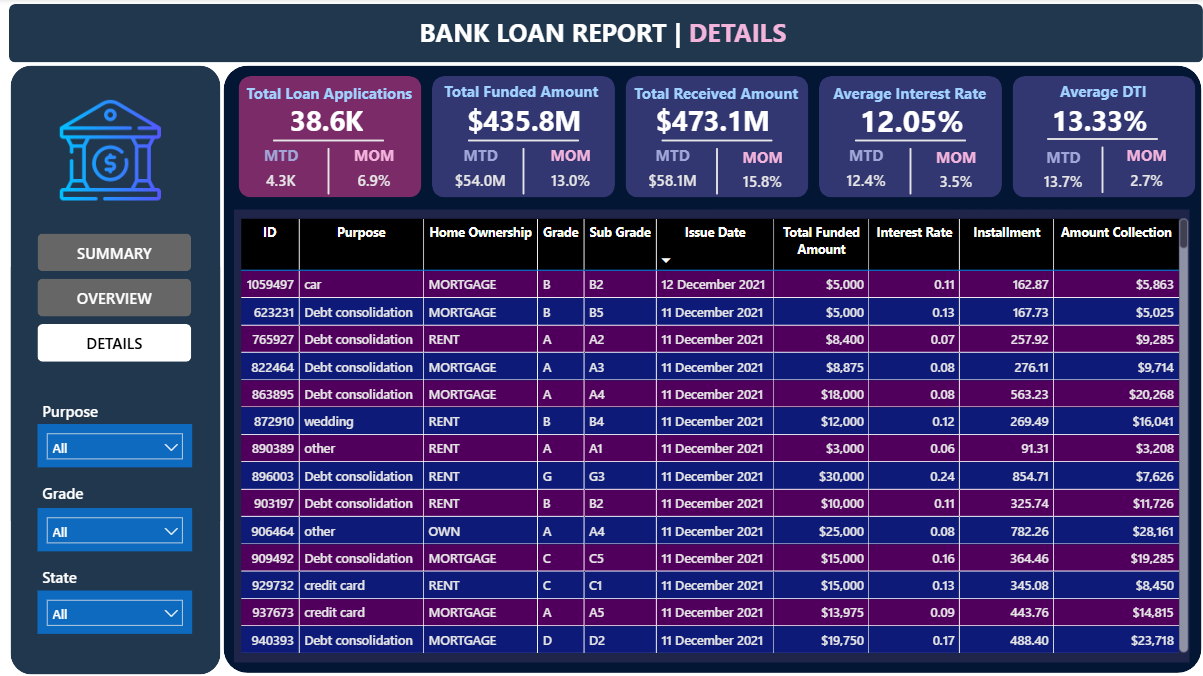

The dashboard page shown, as its layout file describes it:
{"tool":"powerbi","page":{"name":"DETAILS","canvas":[1280,720],"ordinal":2},"visuals":[{"type":"shape","box":[1110.2,0,117.7,299],"z":0,"group":"g6"},{"type":"shape","box":[289.5,1.6,117.7,299],"z":0,"group":"g2"},{"type":"shape","box":[496.3,1.6,117.7,299],"z":0,"group":"g3"},{"type":"shape","box":[701.5,1.6,117.7,299],"z":0,"group":"g4"},{"type":"shape","box":[906.6,1.6,117.7,299],"z":0,"group":"g5"},{"type":"shape","box":[237,71.6,1037.1,644.2],"z":0},{"type":"shape","box":[11.1,71.6,222.7,645.8],"z":1000},{"type":"shape","box":[1110.2,157.5,117.7,49.3],"z":1000,"group":"g6"},{"type":"shape","box":[289.5,159.1,117.7,49.3],"z":1000,"group":"g2"},{"type":"shape","box":[496.3,159.1,117.7,49.3],"z":1000,"group":"g3"},{"type":"shape","box":[701.5,159.1,117.7,49.3],"z":1000,"group":"g4"},{"type":"shape","box":[906.6,159.1,117.7,49.3],"z":1000,"group":"g5"},{"type":"shape","box":[9.5,6.4,1266.1,62],"z":2000},{"type":"textbox","box":[380.2,12.7,518.5,52.5],"z":3000},{"type":"shape","box":[252.9,82.7,194.1,128.8],"z":4000},{"type":"shape","box":[458.1,82.7,194,128.8],"z":5000},{"type":"shape","box":[663.3,82.7,194,128.8],"z":6000},{"type":"shape","box":[1073.7,82.7,194.1,128.8],"z":7000},{"type":"shape","box":[248.1,224.3,1013.2,480.4],"z":8000},{"type":"image","box":[56.5,96.7,122.5,128.8],"z":9000},{"type":"cardVisual","fields":{"Data":["public bank_loan_data.Total Recieved Amount"]},"box":[666.6,93.8,190.9,68.4],"z":10000},{"type":"cardVisual","fields":{"Data":["public bank_loan_data.Total Applications"]},"box":[278.8,93.8,147.9,68.4],"z":11000,"group":"g1"},{"type":"cardVisual","fields":{"Data":["public bank_loan_data.Total Funded Amount"]},"box":[460.2,93.8,192.5,68.4],"z":11000},{"type":"cardVisual","fields":{"Data":["DATE TABLE.Average DTI"]},"box":[1086.4,93.8,163.8,68.4],"z":12000},{"type":"textbox","box":[256.1,84.3,189.3,35],"z":13000},{"type":"textbox","box":[458.6,83.2,189.3,35],"z":14000},{"type":"textbox","box":[665.4,84.3,189.3,35],"z":15000},{"type":"textbox","box":[1074.7,83.2,189.3,35],"z":16000},{"type":"group","id":"g1","title":"Group 1","box":[269.3,93.8,162.1,112.9],"z":17000},{"type":"cardVisual","title":"MTD","fields":{"Data":["public bank_loan_data.MTD Loan Applications"]},"box":[269.3,155.8,58.9,50.9],"z":17000,"group":"g1"},{"type":"cardVisual","title":"MOM","fields":{"Data":["public bank_loan_data.MOM Loan Applications"]},"box":[363,155.2,68.4,50.9],"z":18000,"group":"g1"},{"type":"cardVisual","title":"MTD","fields":{"Data":["public bank_loan_data.MTD Total Amount Received"]},"box":[671.2,155.9,84.3,50.9],"z":18000},{"type":"cardVisual","title":"MTD","fields":{"Data":["public bank_loan_data.MTD FundedAmount"]},"box":[462.9,155.9,93.8,50.9],"z":19000},{"type":"cardVisual","title":"MTD","fields":{"Data":["public bank_loan_data.MTD Average DTI"]},"box":[1086.4,157.5,82.7,50.9],"z":20000},{"type":"shape","box":[868.5,82.7,194,128.8],"z":21000},{"type":"cardVisual","title":"MOM","fields":{"Data":["public bank_loan_data.MOM Total Received Amount"]},"box":[763.5,157.5,90.7,50.9],"z":22000},{"type":"cardVisual","title":"MOM","fields":{"Data":["public bank_loan_data.MOM Total Funded Amount"]},"box":[571,155.9,68.4,50.9],"z":23000},{"type":"cardVisual","title":"MOM","fields":{"Data":["public bank_loan_data.MOM Average DTI"]},"box":[1181.8,155.9,68.4,50.9],"z":24000},{"type":"cardVisual","fields":{"Data":["public bank_loan_data.Average Interest Rate"]},"box":[882.8,93.8,176.6,68.4],"z":25000},{"type":"textbox","box":[870.5,83.7,189.3,35],"z":26000},{"type":"cardVisual","title":"MTD","fields":{"Data":["public bank_loan_data.MTD Average Interest Rate"]},"box":[876.4,155.3,84.3,50.9],"z":27000},{"type":"cardVisual","title":"MOM","fields":{"Data":["public bank_loan_data.MOM Average Interest Rate"]},"box":[968.6,156.9,90.7,50.9],"z":28000},{"type":"group","id":"g2","title":"Group 2","box":[289.5,1.6,117.7,299],"z":29000},{"type":"group","id":"g3","title":"Group 2","box":[496.3,1.6,117.7,299],"z":30000},{"type":"group","id":"g4","title":"Group 2","box":[701.5,1.6,117.7,299],"z":31000},{"type":"group","id":"g5","title":"Group 2","box":[906.6,1.6,117.7,299],"z":32000},{"type":"group","id":"g6","title":"Group 2","box":[1110.2,0,117.7,299],"z":33000},{"type":"slicer","fields":{"Values":["public bank_loan_data.purpose"]},"box":[40.1,452.4,163.8,46.1],"z":34000},{"type":"textbox","box":[40.1,422.2,189.3,35],"z":35000},{"type":"slicer","fields":{"Values":["public bank_loan_data.grade"]},"box":[40.1,541.5,163.8,46.1],"z":36000},{"type":"slicer","fields":{"Values":["public bank_loan_data.address"]},"box":[40.5,628.2,163.8,46.1],"z":37000},{"type":"textbox","box":[40.5,598,189.3,35],"z":38000},{"type":"textbox","box":[39.8,509,189.3,35],"z":39000},{"type":"tableEx","fields":{"Values":["public bank_loan_data.id","public bank_loan_data.purpose","public bank_loan_data.home_ownership","public bank_loan_data.grade","public bank_loan_data.sub_grade","public bank_loan_data.issue_date","public bank_loan_data.Total Funded Amount","Sum(public bank_loan_data.int_rate)","Sum(public bank_loan_data.installment)","public bank_loan_data.Total Recieved Amount"]},"box":[254.5,233.8,1005.3,459.7],"z":40000},{"type":"pageNavigator","box":[39.8,249.7,163.8,138.4],"z":40001}]}

Visuals, with their boxes in screenshot pixels (x1, y1, x2, y2), scaled from the page's 1280x720 canvas onto the 1203x676 screenshot:
shape: left=1043, top=0, right=1154, bottom=281
shape: left=272, top=2, right=383, bottom=282
shape: left=466, top=2, right=577, bottom=282
shape: left=659, top=2, right=770, bottom=282
shape: left=852, top=2, right=963, bottom=282
shape: left=223, top=67, right=1197, bottom=672
shape: left=10, top=67, right=220, bottom=674
shape: left=1043, top=148, right=1154, bottom=194
shape: left=272, top=149, right=383, bottom=196
shape: left=466, top=149, right=577, bottom=196
shape: left=659, top=149, right=770, bottom=196
shape: left=852, top=149, right=963, bottom=196
shape: left=9, top=6, right=1199, bottom=64
textbox: left=357, top=12, right=845, bottom=61
shape: left=238, top=78, right=420, bottom=199
shape: left=431, top=78, right=613, bottom=199
shape: left=623, top=78, right=806, bottom=199
shape: left=1009, top=78, right=1192, bottom=199
shape: left=233, top=211, right=1185, bottom=662
image: left=53, top=91, right=168, bottom=212
cardVisual - public bank_loan_data.Total Recieved Amount: left=626, top=88, right=806, bottom=152
cardVisual - public bank_loan_data.Total Applications: left=262, top=88, right=401, bottom=152
cardVisual - public bank_loan_data.Total Funded Amount: left=433, top=88, right=613, bottom=152
cardVisual - DATE TABLE.Average DTI: left=1021, top=88, right=1175, bottom=152
textbox: left=241, top=79, right=419, bottom=112
textbox: left=431, top=78, right=609, bottom=111
textbox: left=625, top=79, right=803, bottom=112
textbox: left=1010, top=78, right=1188, bottom=111
"Group 1" group: left=253, top=88, right=405, bottom=194
"MTD" cardVisual: left=253, top=146, right=308, bottom=194
"MOM" cardVisual: left=341, top=146, right=405, bottom=194
"MTD" cardVisual: left=631, top=146, right=710, bottom=194
"MTD" cardVisual: left=435, top=146, right=523, bottom=194
"MTD" cardVisual: left=1021, top=148, right=1099, bottom=196
shape: left=816, top=78, right=999, bottom=199
"MOM" cardVisual: left=718, top=148, right=803, bottom=196
"MOM" cardVisual: left=537, top=146, right=601, bottom=194
"MOM" cardVisual: left=1111, top=146, right=1175, bottom=194
cardVisual - public bank_loan_data.Average Interest Rate: left=830, top=88, right=996, bottom=152
textbox: left=818, top=79, right=996, bottom=111
"MTD" cardVisual: left=824, top=146, right=903, bottom=194
"MOM" cardVisual: left=910, top=147, right=996, bottom=195
"Group 2" group: left=272, top=2, right=383, bottom=282
"Group 2" group: left=466, top=2, right=577, bottom=282
"Group 2" group: left=659, top=2, right=770, bottom=282
"Group 2" group: left=852, top=2, right=963, bottom=282
"Group 2" group: left=1043, top=0, right=1154, bottom=281
slicer - public bank_loan_data.purpose: left=38, top=425, right=192, bottom=468
textbox: left=38, top=396, right=216, bottom=429
slicer - public bank_loan_data.grade: left=38, top=508, right=192, bottom=552
slicer - public bank_loan_data.address: left=38, top=590, right=192, bottom=633
textbox: left=38, top=561, right=216, bottom=594
textbox: left=37, top=478, right=215, bottom=511
tableEx - public bank_loan_data.id x public bank_loan_data.purpose: left=239, top=220, right=1184, bottom=651
pageNavigator: left=37, top=234, right=191, bottom=364
